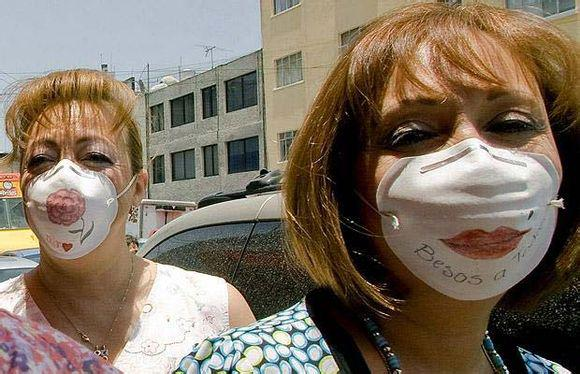OK: (379, 94, 557, 288), (22, 135, 136, 249)
